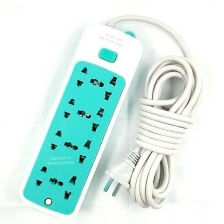three_eye_plug: (17, 18, 145, 221)
